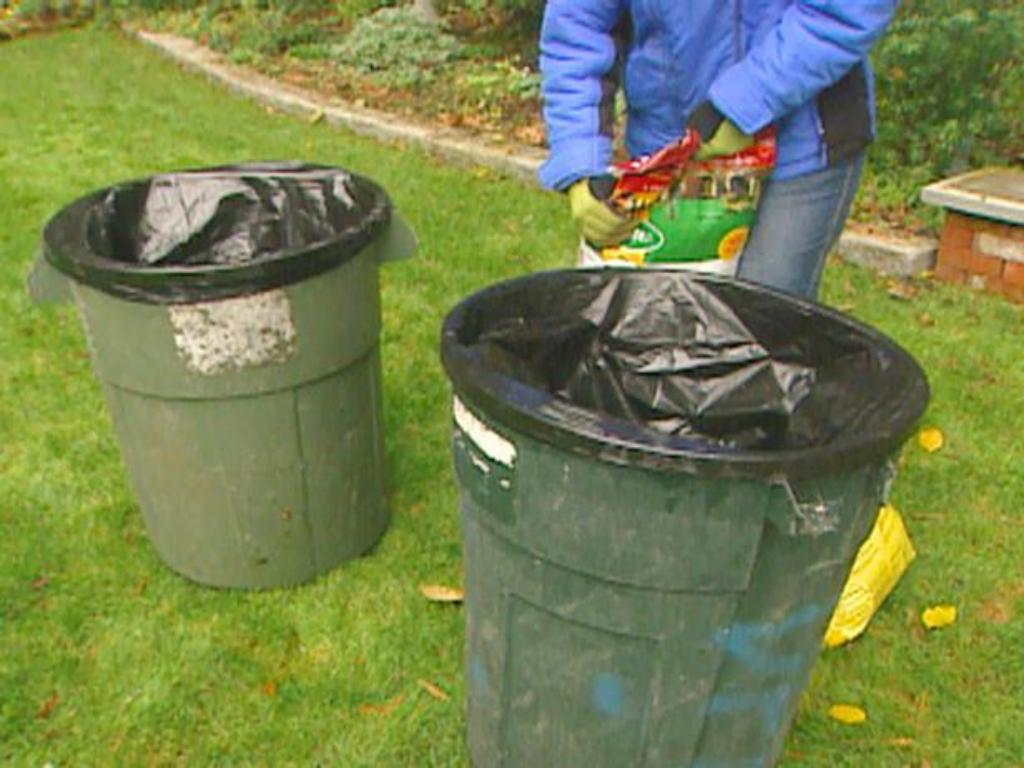dustbin: (424, 229, 928, 768), (30, 158, 434, 620)
